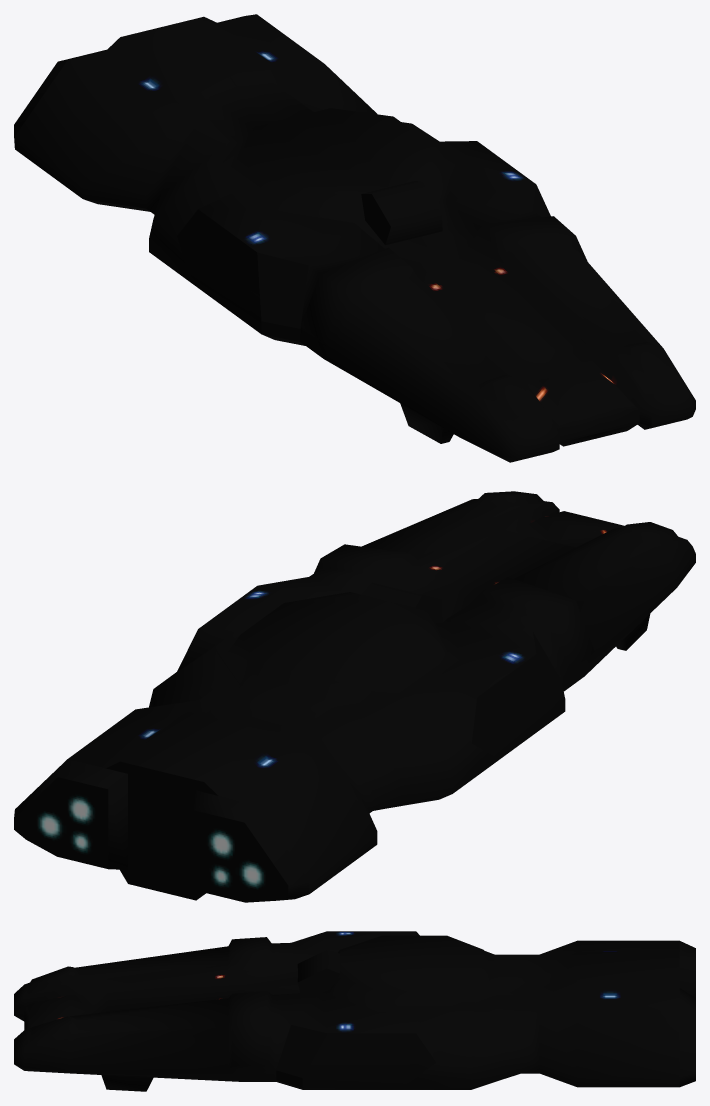
The model's file is hgn_sc_puls_01_t1.glb.
The picture shows the model from 3 angles, top to bottom: view 1: azimuth 30°, elevation 25°; view 2: azimuth 150°, elevation 25°; view 3: azimuth 270°, elevation 25°; orthographic projection. The views are drawn at different scales.
Parts seen in each view (by area): view 1: hgn_pulsar_corvette_01_LOD0; view 2: hgn_pulsar_corvette_01_LOD0; view 3: hgn_pulsar_corvette_01_LOD0.
Boxes of the visible parts, x1=… form: hgn_pulsar_corvette_01_LOD0: x1=14, y1=14, x2=695, y2=462; hgn_pulsar_corvette_01_LOD0: x1=14, y1=491, x2=695, y2=902; hgn_pulsar_corvette_01_LOD0: x1=14, y1=931, x2=695, y2=1091.
Size of what is drawn, in the model's own units: 0.2437 by 0.1009 by 0.6316.
Materials: 1 (1 with a texture image).
